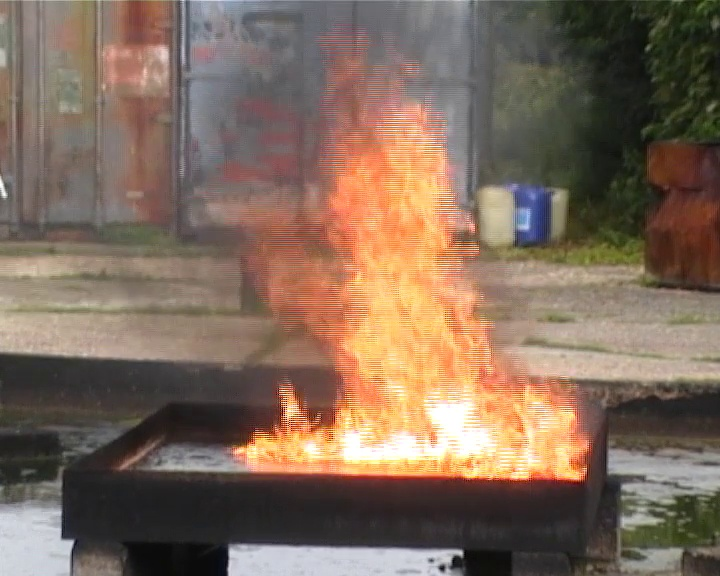fire: (234, 99, 587, 481)
